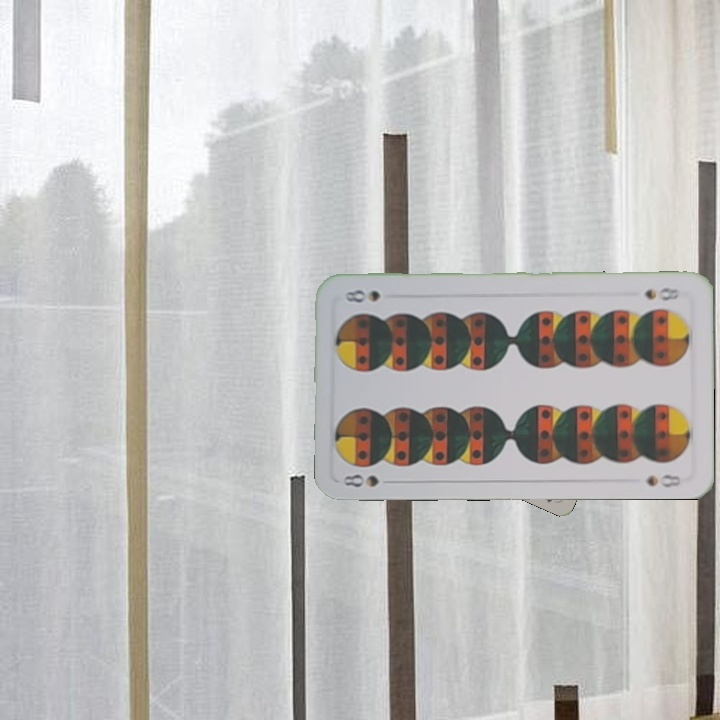S8: (339, 470, 398, 490), (640, 284, 682, 304)
